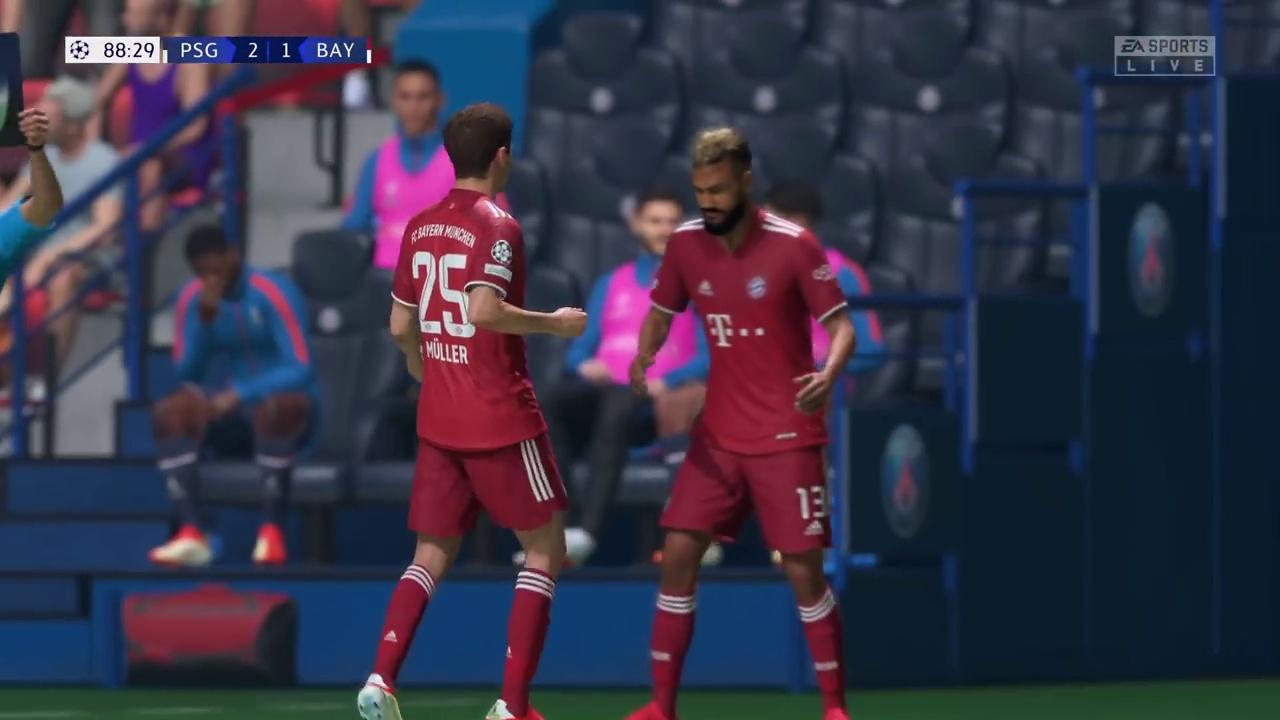scoreboard: (164, 36, 372, 64)
timestamp: (65, 36, 158, 64)
